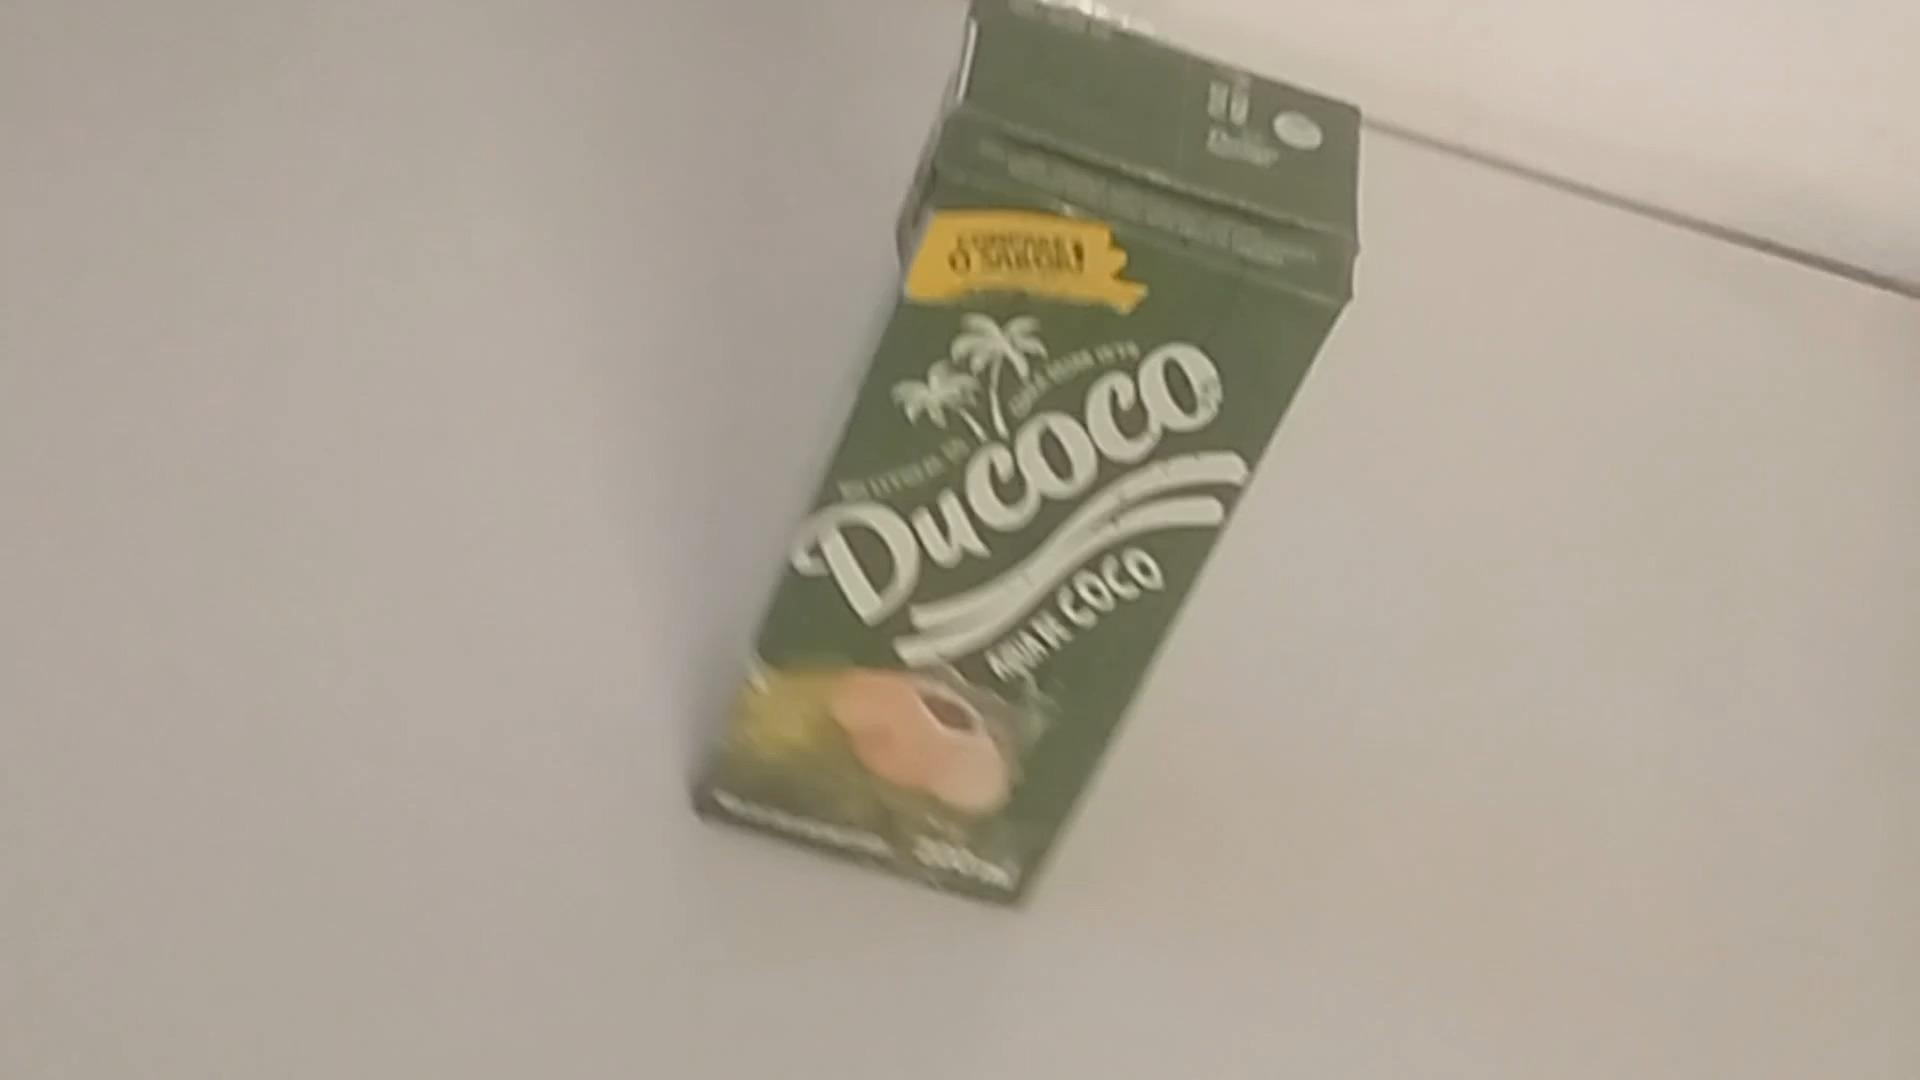coco: (690, 3, 1360, 914)
